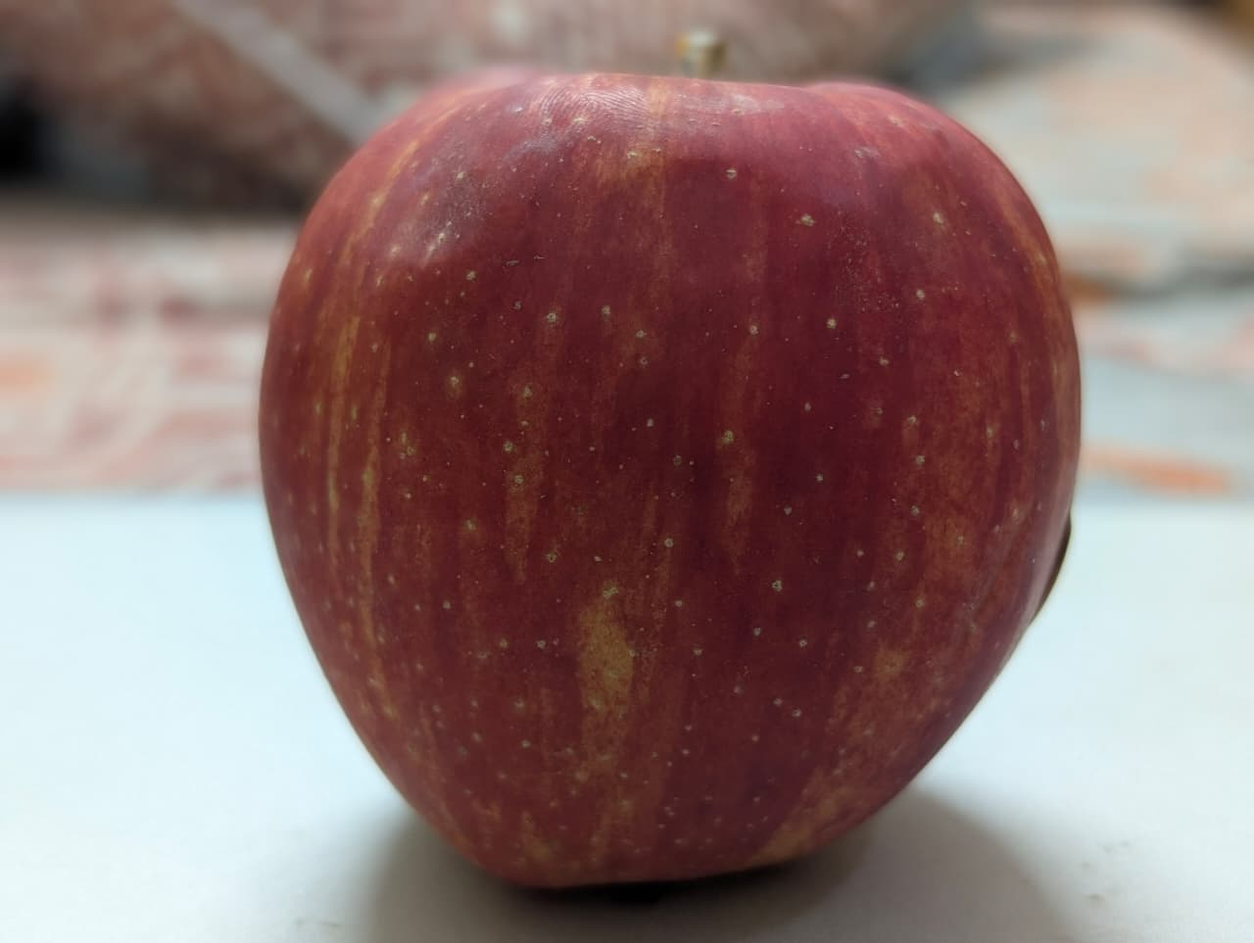apple: (164, 153, 1098, 843)
